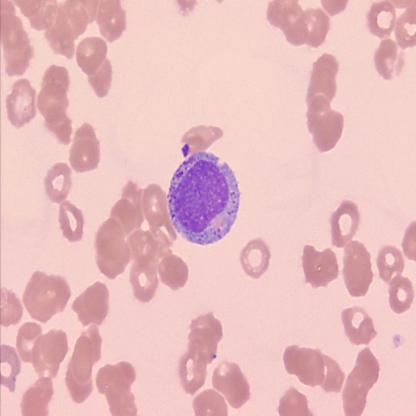Myelocyte: (167, 153, 239, 243)
